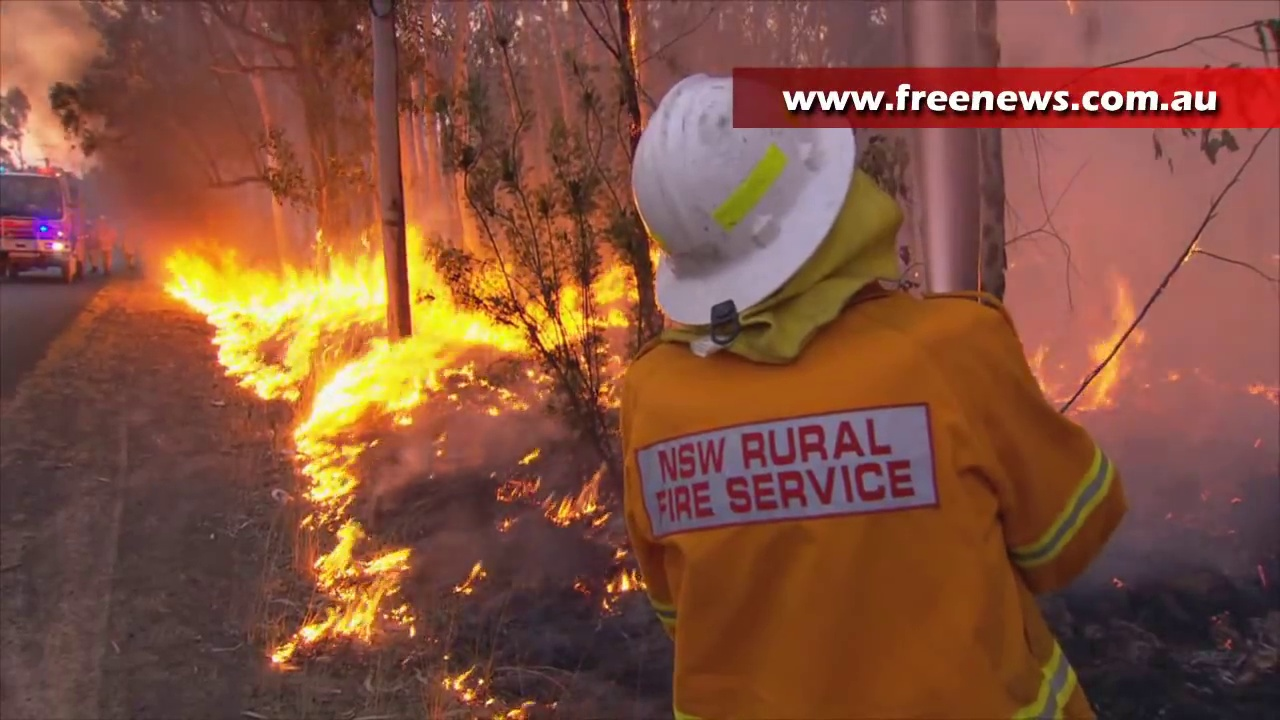fire: (170, 249, 635, 409), (290, 417, 408, 649), (1088, 283, 1140, 404)
